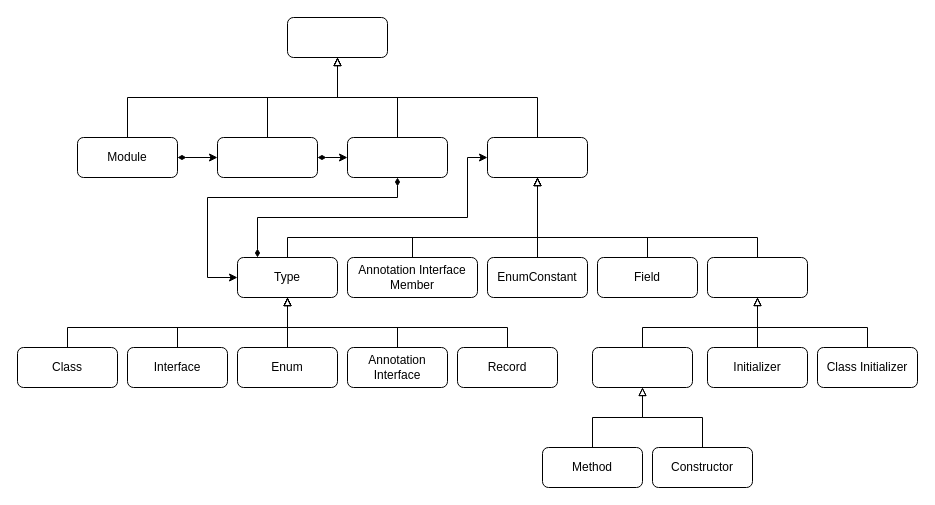
Some shapes in this 935 by 505 pixel diagram are drawn without their labels. The shapes that lost their labels are listed below. From the top down, each one's centre as x and y in pixels, then its label:
At (337,37): "Source".
At (267,157): "Package".
At (397,157): "Compilation Unit".
At (537,157): "Member".
At (757,277): "Code".
At (642,367): "Operation".
